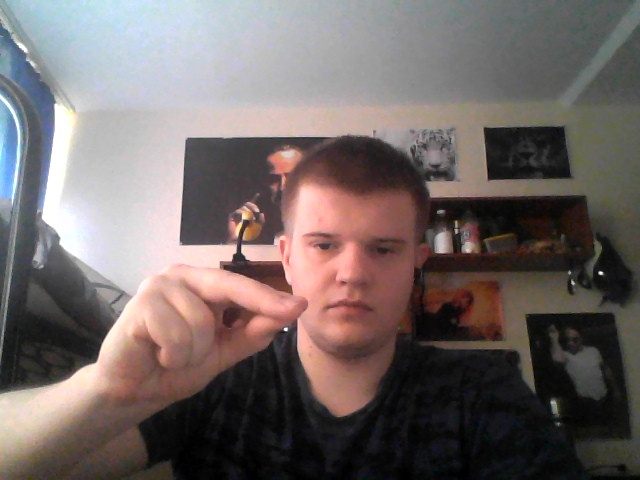no: (95, 258, 311, 397)
